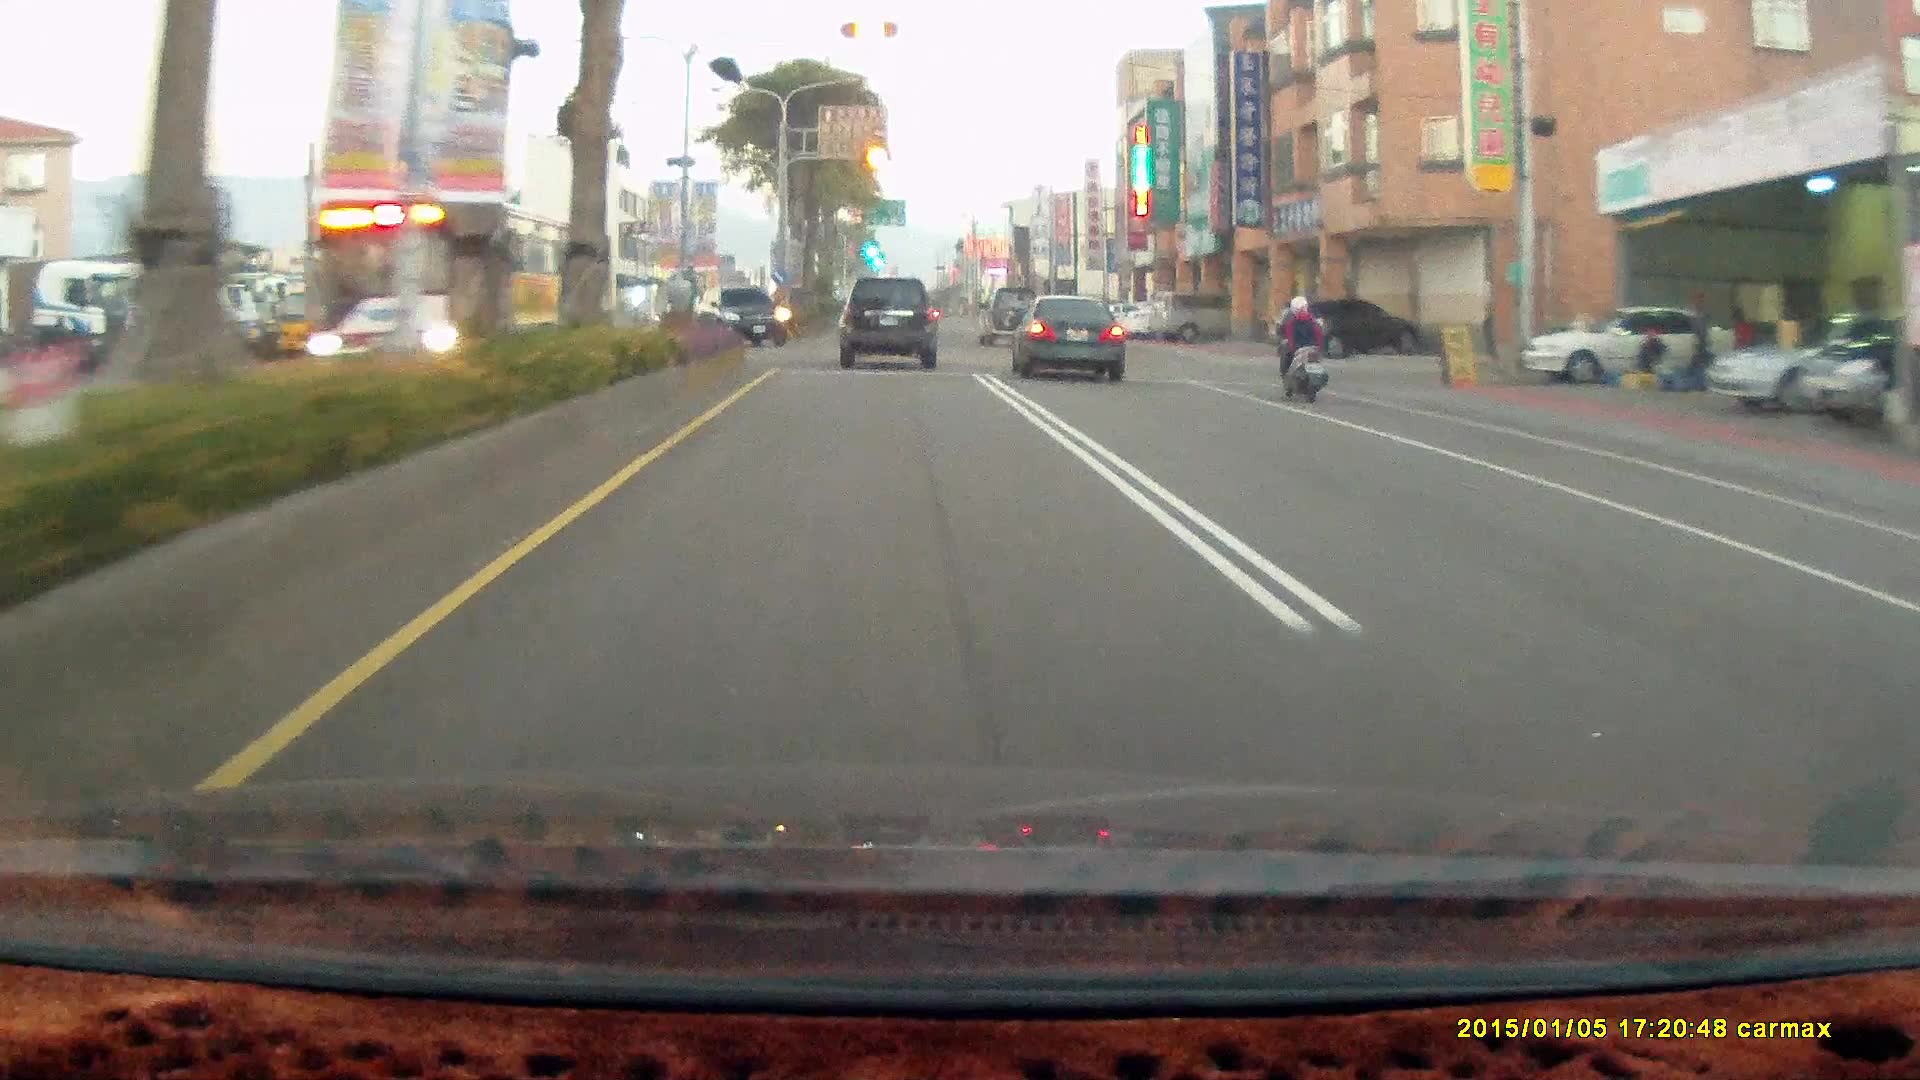pedestrian: (1688, 291, 1716, 391), (1730, 302, 1759, 385), (1638, 325, 1668, 389)
rider: (1263, 285, 1339, 414), (1270, 294, 1328, 402)
vehicle: (297, 193, 615, 375), (311, 199, 617, 383), (1704, 313, 1917, 415), (1517, 303, 1742, 383), (1714, 308, 1889, 410), (1792, 302, 1920, 429), (1797, 302, 1919, 430), (1554, 302, 1751, 378), (1012, 297, 1132, 391), (1002, 292, 1122, 380), (839, 281, 943, 374), (1271, 299, 1423, 362), (1271, 298, 1423, 360), (837, 276, 936, 369), (705, 284, 790, 348), (703, 284, 789, 346), (1149, 291, 1253, 341), (1154, 292, 1235, 345), (976, 286, 1042, 347)
